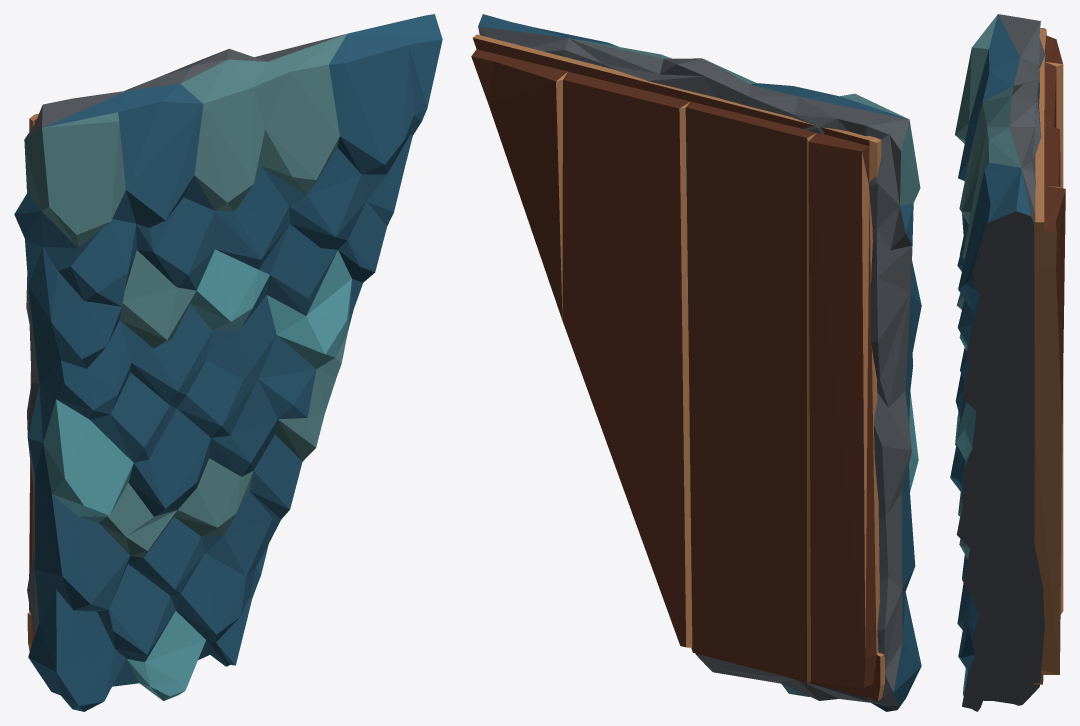
File: MCastle_Roofs_06.FBX
The picture shows the model from 3 angles, left to right: view 1: azimuth 30°, elevation 25°; view 2: azimuth 150°, elevation 25°; view 3: azimuth 270°, elevation 25°; orthographic projection. The views are drawn at different scales.
Parts seen in each view (by area): view 1: MCastle_Roofs_06_LOD0; view 2: MCastle_Roofs_06_LOD0; view 3: MCastle_Roofs_06_LOD0.
Part boxes in pixels (box(x1,y1,x2,y2)): MCastle_Roofs_06_LOD0: box(14, 14, 442, 711); MCastle_Roofs_06_LOD0: box(471, 14, 921, 711); MCastle_Roofs_06_LOD0: box(950, 14, 1065, 711).
Size of what is drawn, in the model's own units: 3.64 by 5.1 by 0.8316.
